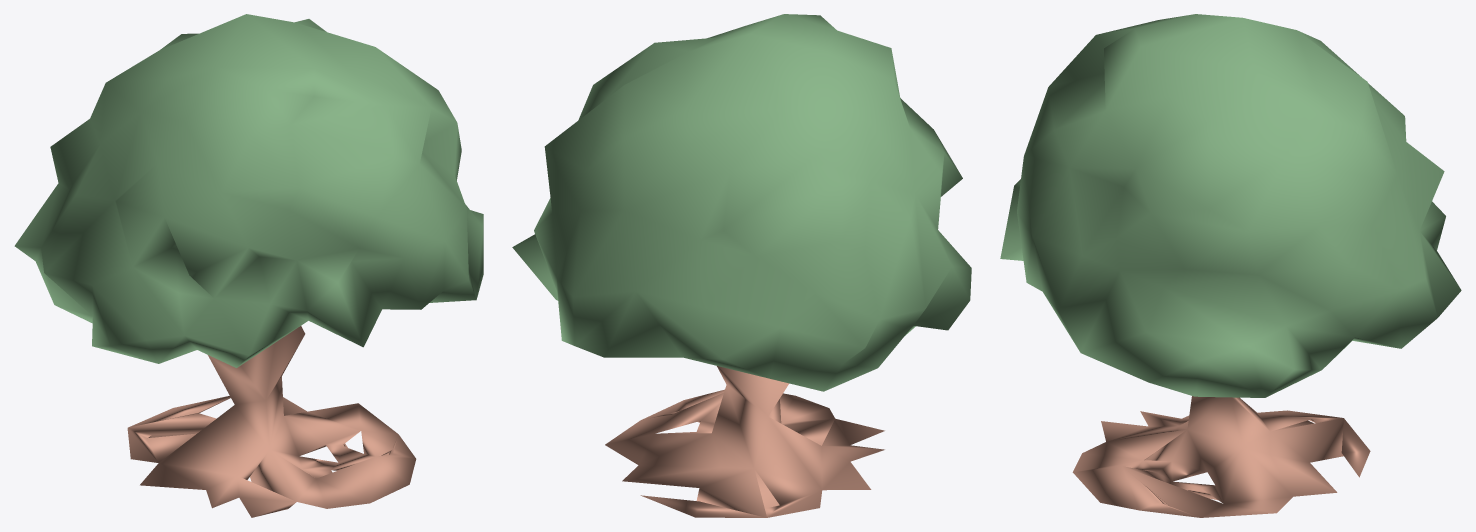
3 renders of one model, left to right at view 1: azimuth 30°, elevation 25°; view 2: azimuth 150°, elevation 25°; view 3: azimuth 270°, elevation 25°, orthographic.
Parts seen in each view (by area): view 1: 둥근 수관 나무; view 2: 둥근 수관 나무; view 3: 둥근 수관 나무.
Part boxes in pixels (<box>): 둥근 수관 나무: <box>14,14,483,517</box>; 둥근 수관 나무: <box>512,14,971,517</box>; 둥근 수관 나무: <box>1000,14,1461,517</box>.
Bounding box in the file's own units: 116 × 122 × 114.
